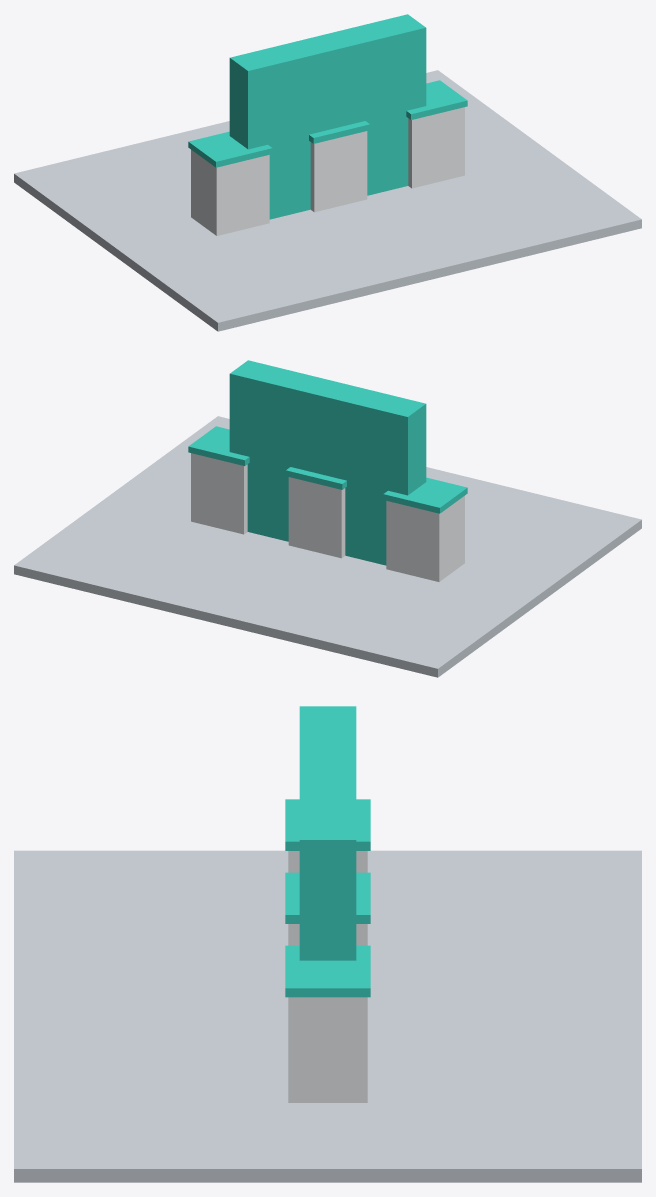
The picture shows the model from 3 angles, top to bottom: view 1: azimuth 30°, elevation 25°; view 2: azimuth 150°, elevation 25°; view 3: azimuth 270°, elevation 25°; orthographic projection. The views are drawn at different scales.
Parts seen in each view (by area): view 1: Exhibition Booth Concept; view 2: Exhibition Booth Concept; view 3: Exhibition Booth Concept.
Boxes of the visible parts, left/top/right/bottom form: Exhibition Booth Concept: left=14, top=14, right=641, bottom=331; Exhibition Booth Concept: left=14, top=360, right=641, bottom=677; Exhibition Booth Concept: left=14, top=706, right=641, bottom=1182.
Bounding box in the file's own units: 6 × 2.2 × 5.
